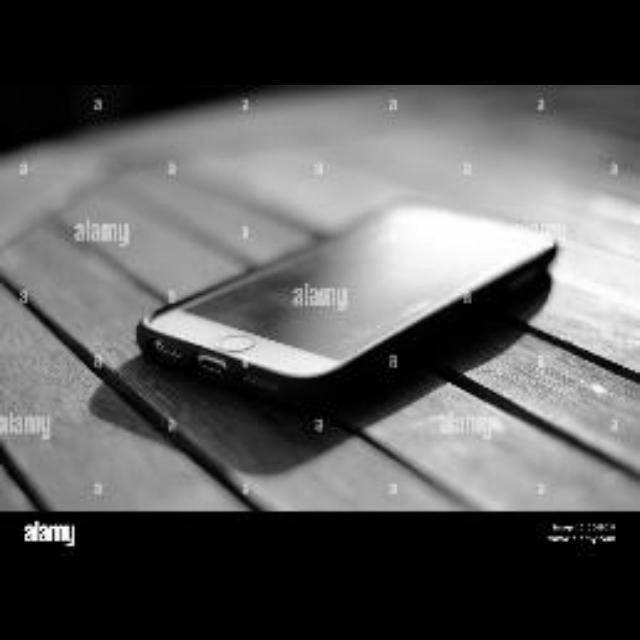fake: (101, 141, 595, 450)
